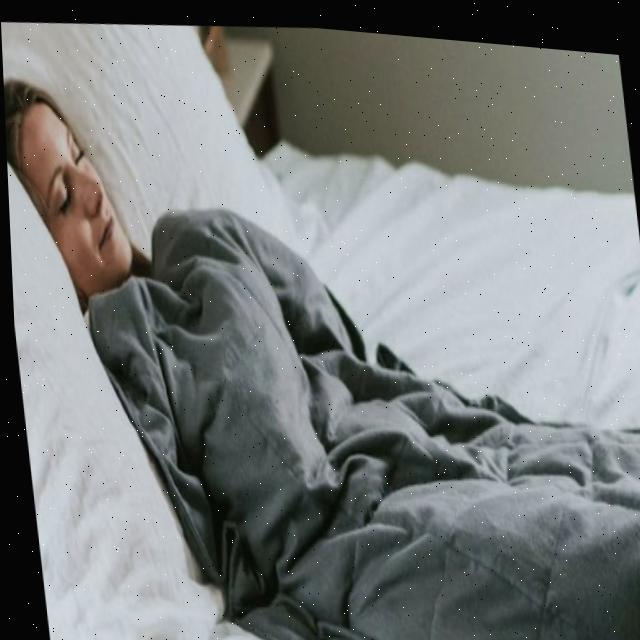sleeping-person: (0, 8, 640, 640)
